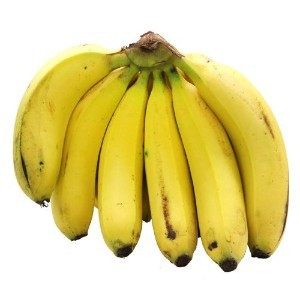banana_brain food: (65, 60, 217, 169)
